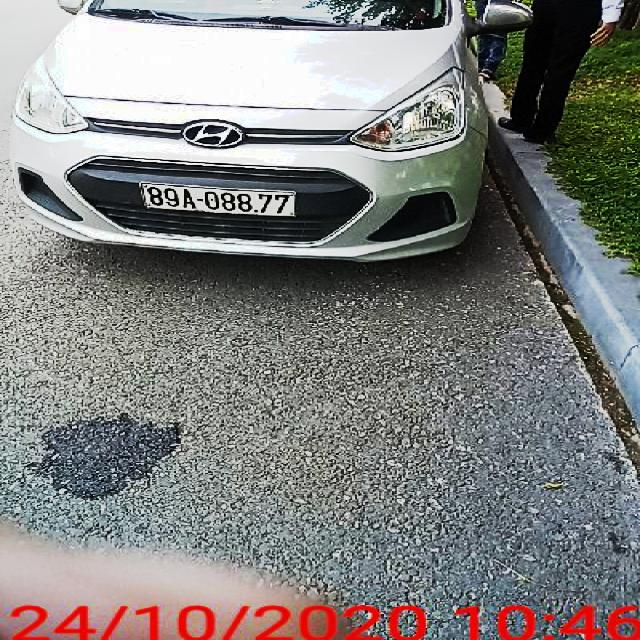license_plate: (141, 181, 300, 215)
